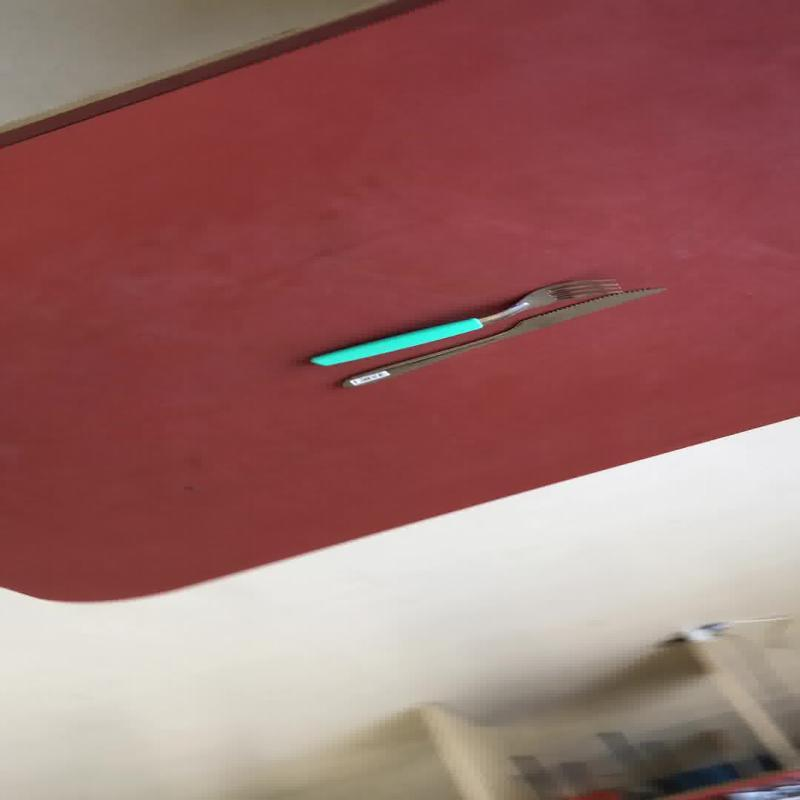fork: (305, 275, 621, 367)
knife: (336, 283, 664, 389)
